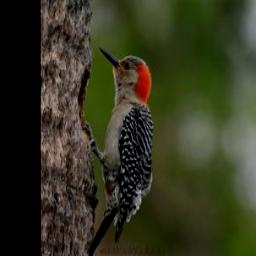Woodpecker: (84, 40, 161, 256)
